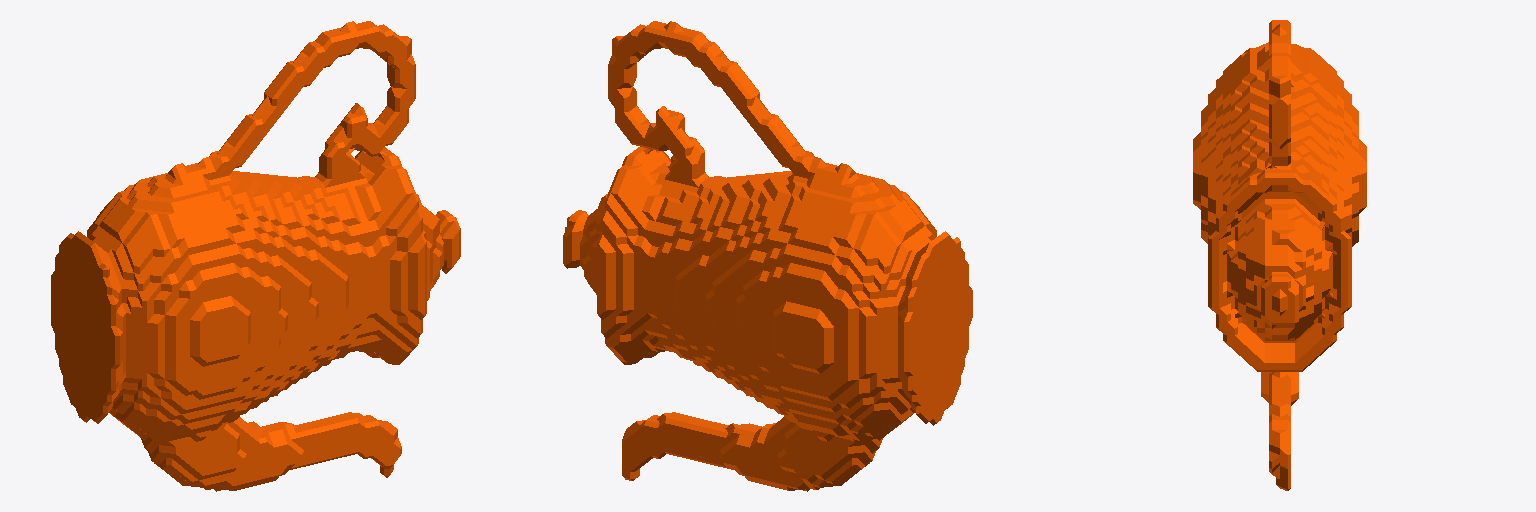
robot.urdf — Teapot_blue_high_3d2:
<robot name="Teapot_blue_high_3d2">
   <material name="obj_color">
      <color rgba="1.0 0.423529411765 0.0392156862745 1.0" />
   </material>
   <link name="top">
      <inertial>
         <origin rpy="0.0001906900879466658 0.0003114075697398656 0.0004261582253583778" xyz="-0.008699378920366003 -2.824995782520879e-05 -0.001028858490602597" />
         <mass value="0.24875" />
         <inertia ixx="0.0001913324349561845" ixy="1.446779386375558e-07" ixz="-8.781708584836e-06" iyy="0.000426158083839141" iyz="8.304625588676917e-08" izz="0.0003107653642495841" />
      </inertial>
      <visual>
         <origin rpy="0 0 0" xyz="0 0 0" />
         <geometry>
            <mesh filename="top_watertight_tiny.stl" scale="1 1 1" />
         </geometry>
         <material name="obj_color" />
      </visual>
      <collision>
         <origin rpy="0 0 0" xyz="0 0 0" />
         <geometry>
            <mesh filename="top_watertight_tiny.obj" scale="1 1 1" />
         </geometry>
      </collision>
   </link>
   <link name="bottom">
      <inertial>
         <origin rpy="1.633333333194242e-08 1.633333333194243e-08 1.633333333357667e-08" xyz="0.3464080000000008 0.3464080000000008 0.3464080000000008" />
         <mass value="0.0009800000000000017" />
         <inertia ixx="1.633333333248717e-08" ixy="5.447480642029219e-19" ixz="5.447480642029219e-19" iyy="1.633333333248717e-08" iyz="5.447480642029219e-19" izz="1.633333333248717e-08" />
      </inertial>
      <visual>
         <origin rpy="0 0 0" xyz="0 0 0" />
         <geometry>
            <mesh filename="bottom_watertight_tiny.stl" scale="1 1 1" />
         </geometry>
         <material name="obj_color" />
      </visual>
   </link>
   <joint name="rotation" type="revolute">
      <origin xyz="0 0 0" />
      <axis xyz="0 0 -1" />
      <parent link="bottom" />
      <child link="top" />
      <dynamics damping="1.0" friction="1.0" />
      <limit effort="0.1" velocity="0.1" lower="0" upper="0.001" />
   </joint>
</robot>

--- What the picture shows (computed from the rendered views, not written in the file) ---
3 views of the same robot in one strip: view 1: azimuth 30°, elevation 25°; view 2: azimuth 150°, elevation 25°; view 3: azimuth 270°, elevation 25° (orthographic).
Robot: Teapot_blue_high_3d2 — 2 links, 1 joints (1 revolute); root link bottom; default pose: every joint at zero.
Visible links, largest first — view 1: top; view 2: top; view 3: top.
Link boxes in pixels (x1,y1,x2,y2): top: (51, 21, 460, 491); top: (563, 21, 972, 491); top: (1193, 20, 1366, 490).
Size in the robot's own frame: 0.1435 by 0.06 by 0.1696 metres.
1 mesh visuals loaded from 2 distinct referenced files (1 binary STL); not drawn: 1 (reference not matched to a file when rendering).